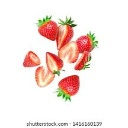strawberry: (57, 17, 78, 50), (35, 14, 59, 41), (56, 73, 81, 98), (44, 51, 65, 74), (35, 65, 56, 87)
